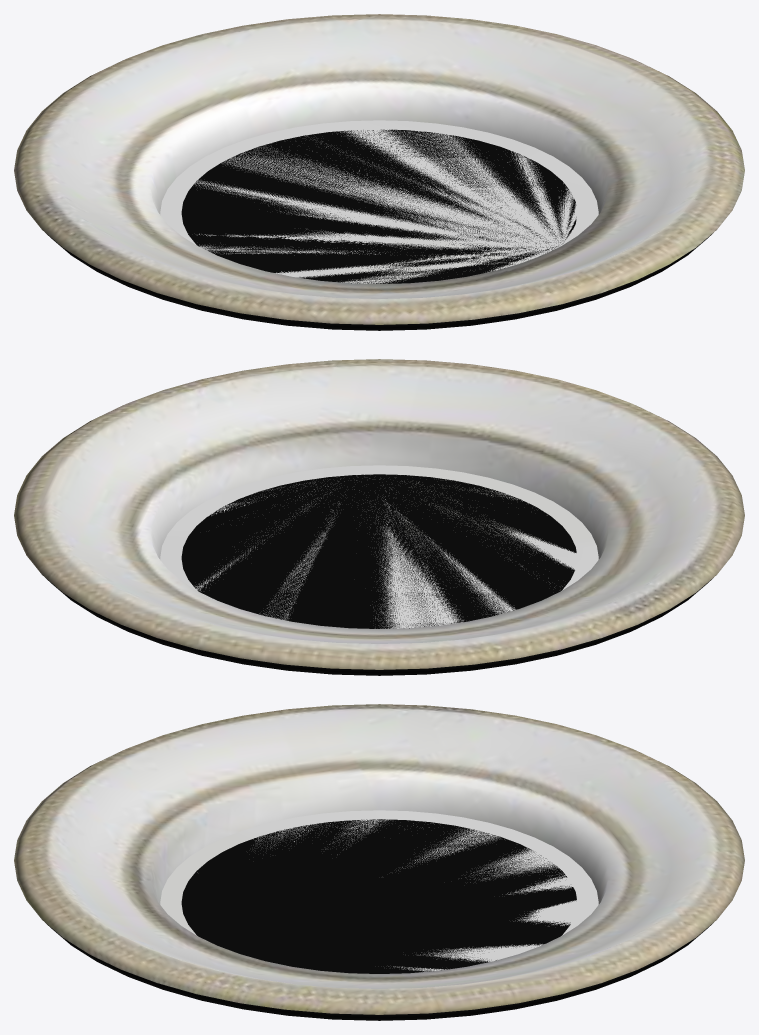
Rendered from Plate.fbx.
The picture shows the model from 3 angles, top to bottom: view 1: azimuth 30°, elevation 25°; view 2: azimuth 150°, elevation 25°; view 3: azimuth 270°, elevation 25°; orthographic projection.
Parts seen in each view (by area): view 1: Plate; view 2: Plate; view 3: Plate.
Part boxes in pixels (x1=…): Plate: x1=14, y1=14, x2=744, y2=330; Plate: x1=14, y1=359, x2=744, y2=675; Plate: x1=14, y1=704, x2=744, y2=1020.
Size of the model in its own units: 2.5 by 0.2404 by 2.5.
1 material, 1 textured.
